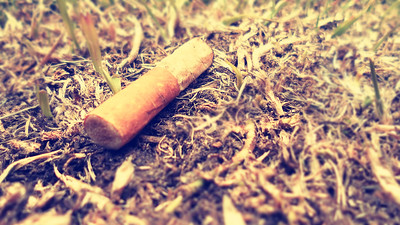cigarette: (78, 35, 220, 154)
